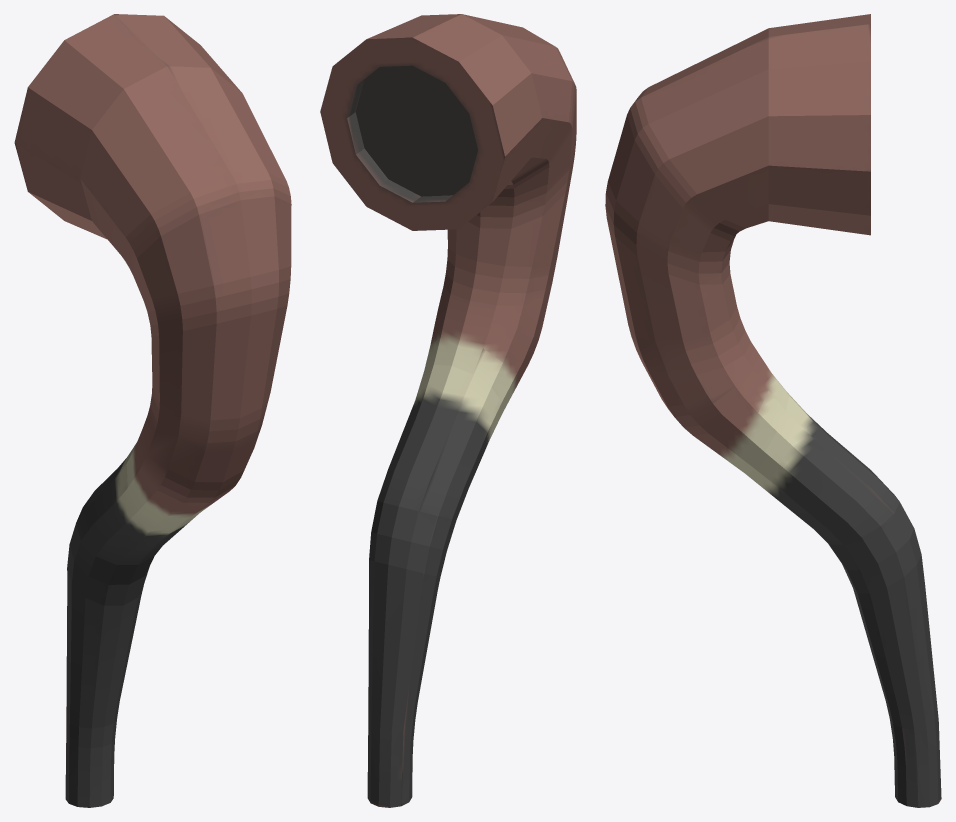
File: pipecprsd.glb
The picture shows the model from 3 angles, left to right: view 1: azimuth 30°, elevation 25°; view 2: azimuth 150°, elevation 25°; view 3: azimuth 270°, elevation 25°; orthographic projection. The views are drawn at different scales.
Parts seen in each view (by area): view 1: Cylinder007; view 2: Cylinder007; view 3: Cylinder007.
Boxes of the visible parts, <box> form: Cylinder007: <box>14,14,291,807</box>; Cylinder007: <box>320,14,576,807</box>; Cylinder007: <box>605,14,941,807</box>.
Bounding box in the file's own units: 1.08 × 4.17 × 1.64.
1 material, 1 textured.
